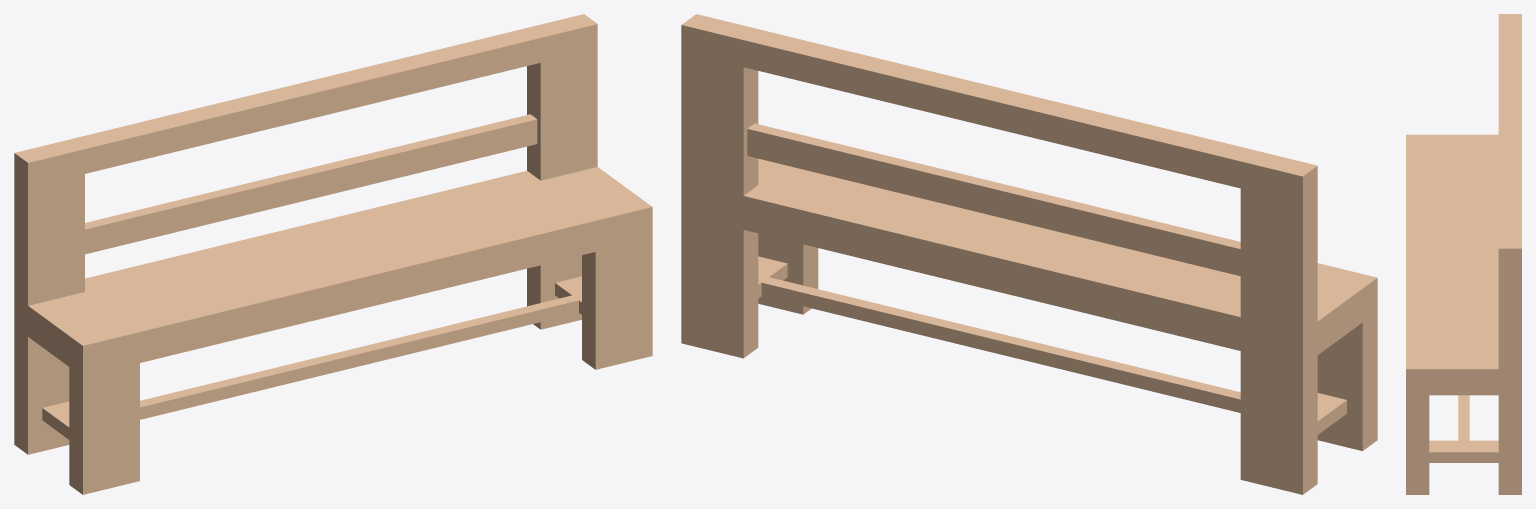
File: outdoor_bench.glb
3 views of the same model, side by side, from view 1: azimuth 30°, elevation 25°; view 2: azimuth 150°, elevation 25°; view 3: azimuth 270°, elevation 25° (orthographic). The views are drawn at different scales.
Visible parts, largest first — view 1: Prop_00_00_Mesh_bench; view 2: Prop_00_00_Mesh_bench; view 3: Prop_00_00_Mesh_bench.
Part boxes in pixels (box(x1,y1,x2,y2)): Prop_00_00_Mesh_bench: box(14, 14, 652, 494); Prop_00_00_Mesh_bench: box(681, 14, 1377, 494); Prop_00_00_Mesh_bench: box(1406, 14, 1521, 494).
Size of the model in its own units: 1.74 by 0.85 by 0.3617.
